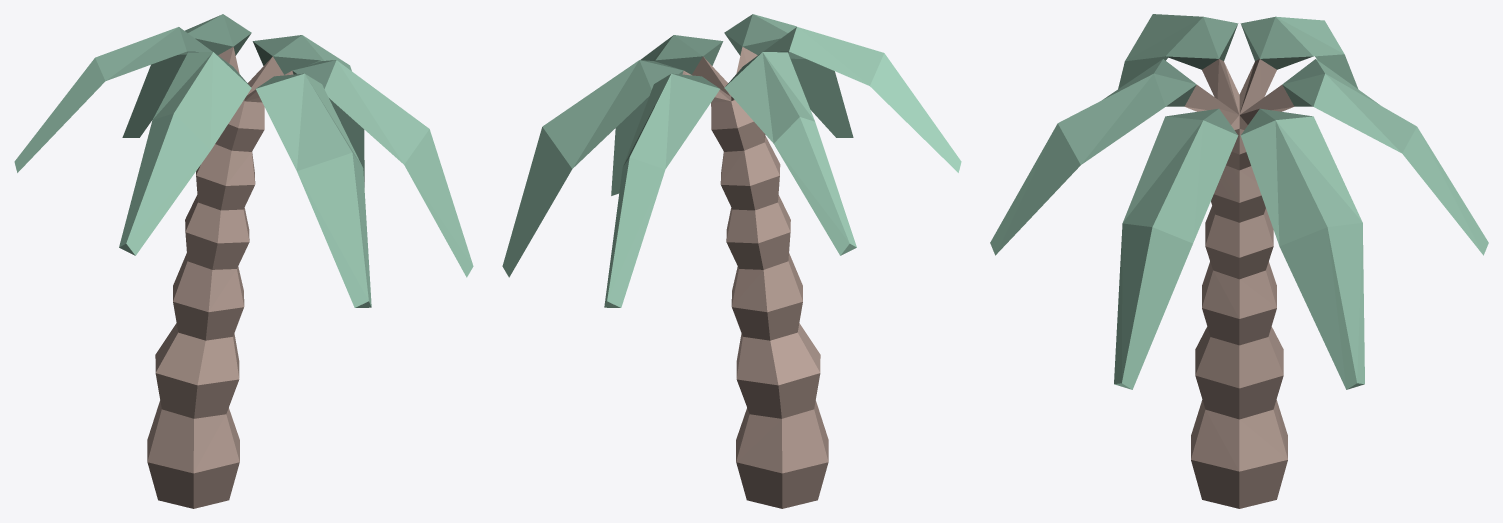
File: TreePalm.fbx
The picture shows the model from 3 angles, left to right: view 1: azimuth 30°, elevation 25°; view 2: azimuth 150°, elevation 25°; view 3: azimuth 270°, elevation 25°; orthographic projection. The views are drawn at different scales.
Parts seen in each view (by area): view 1: TreePalm; view 2: TreePalm; view 3: TreePalm.
Part boxes in pixels (left/top/right/bottom): TreePalm: left=14, top=14, right=473, bottom=508; TreePalm: left=502, top=14, right=961, bottom=508; TreePalm: left=990, top=14, right=1488, bottom=508.
Size of the model in its own units: 6.29 by 8.02 by 7.39.
